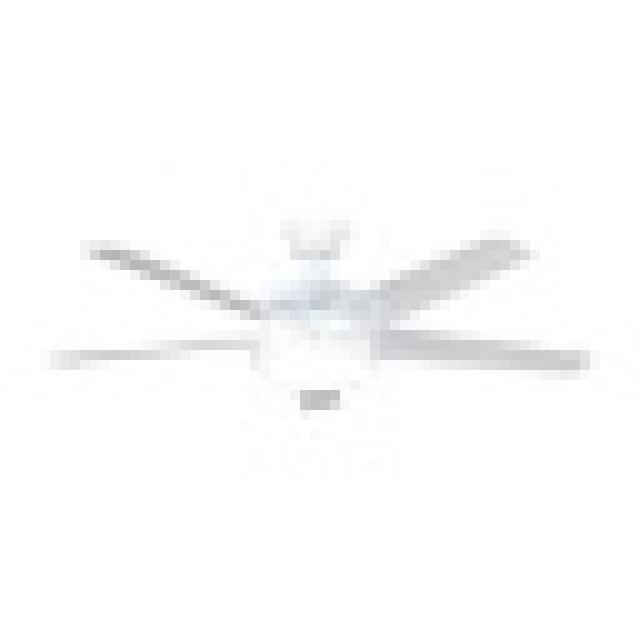fan_off: (64, 230, 596, 384)
